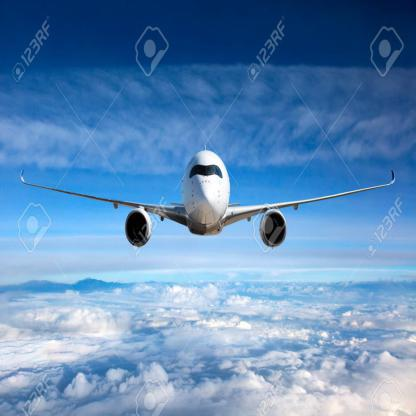CIV_Plane: (17, 146, 398, 256)
